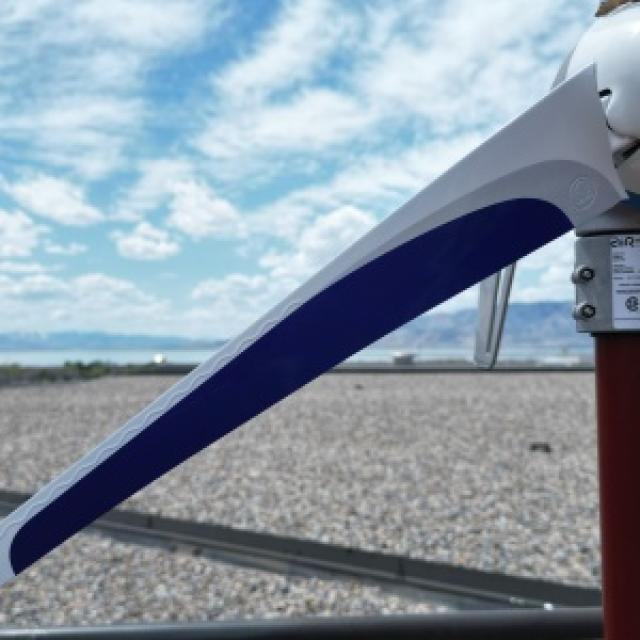healthy: (0, 0, 587, 333)
